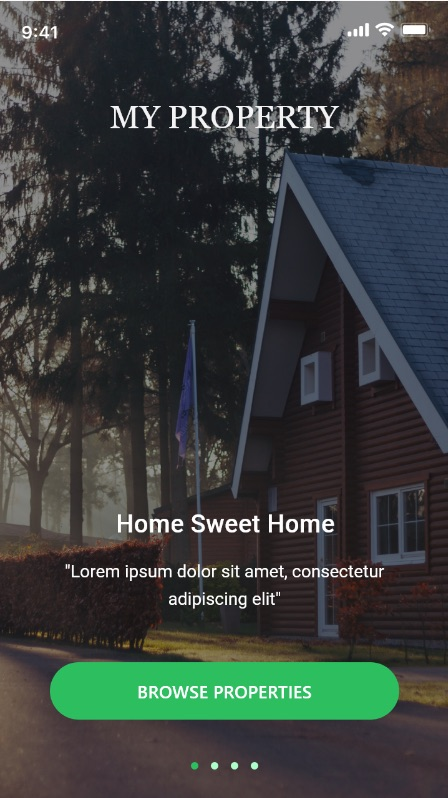BackgroundImage: (1, 1, 448, 798)
PageIndicator: (190, 760, 260, 772)
Text: (65, 563, 385, 610), (110, 106, 340, 130), (118, 513, 335, 534)
TextButton: (50, 662, 400, 721)
UpperTaskBar: (22, 22, 434, 40)
